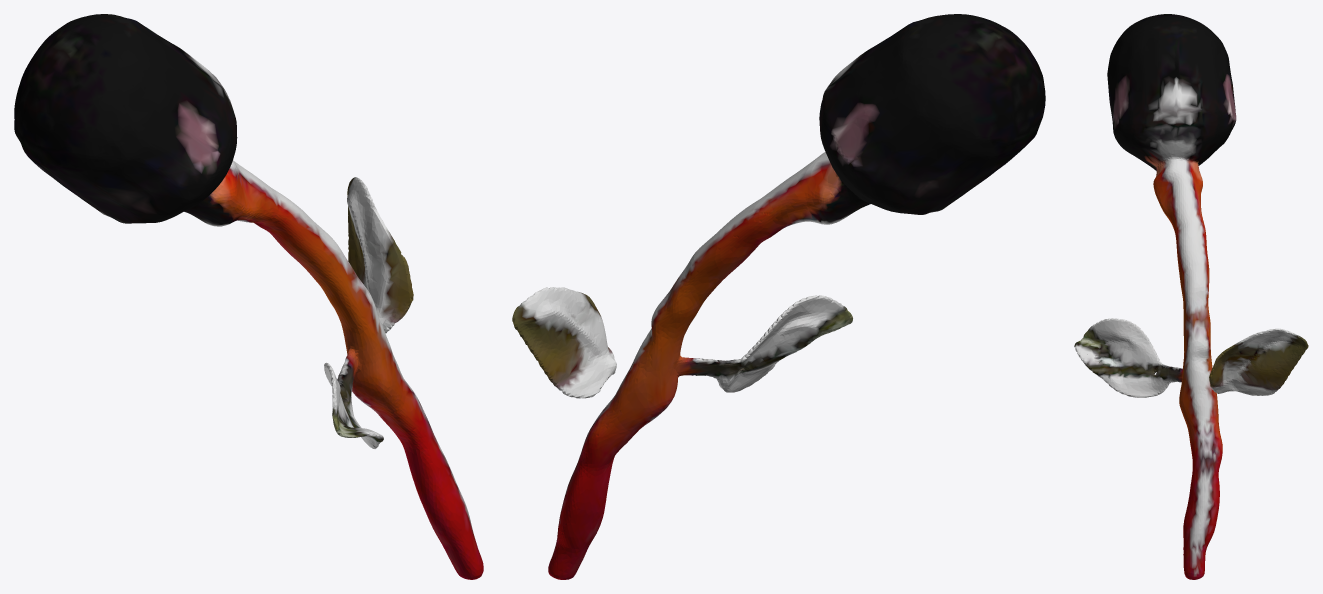
The model's file is rose_black.glb.
3 renders of one model, left to right at view 1: azimuth 30°, elevation 25°; view 2: azimuth 150°, elevation 25°; view 3: azimuth 270°, elevation 25°, orthographic. The views are drawn at different scales.
Visible parts, largest first — view 1: geometry_0; view 2: geometry_0; view 3: geometry_0.
Boxes of the visible parts, <box> form: geometry_0: <box>14,14,483,579</box>; geometry_0: <box>512,14,1045,579</box>; geometry_0: <box>1074,14,1308,579</box>.
Size of the model in its own units: 0.4688 by 0.6155 by 0.3009.
